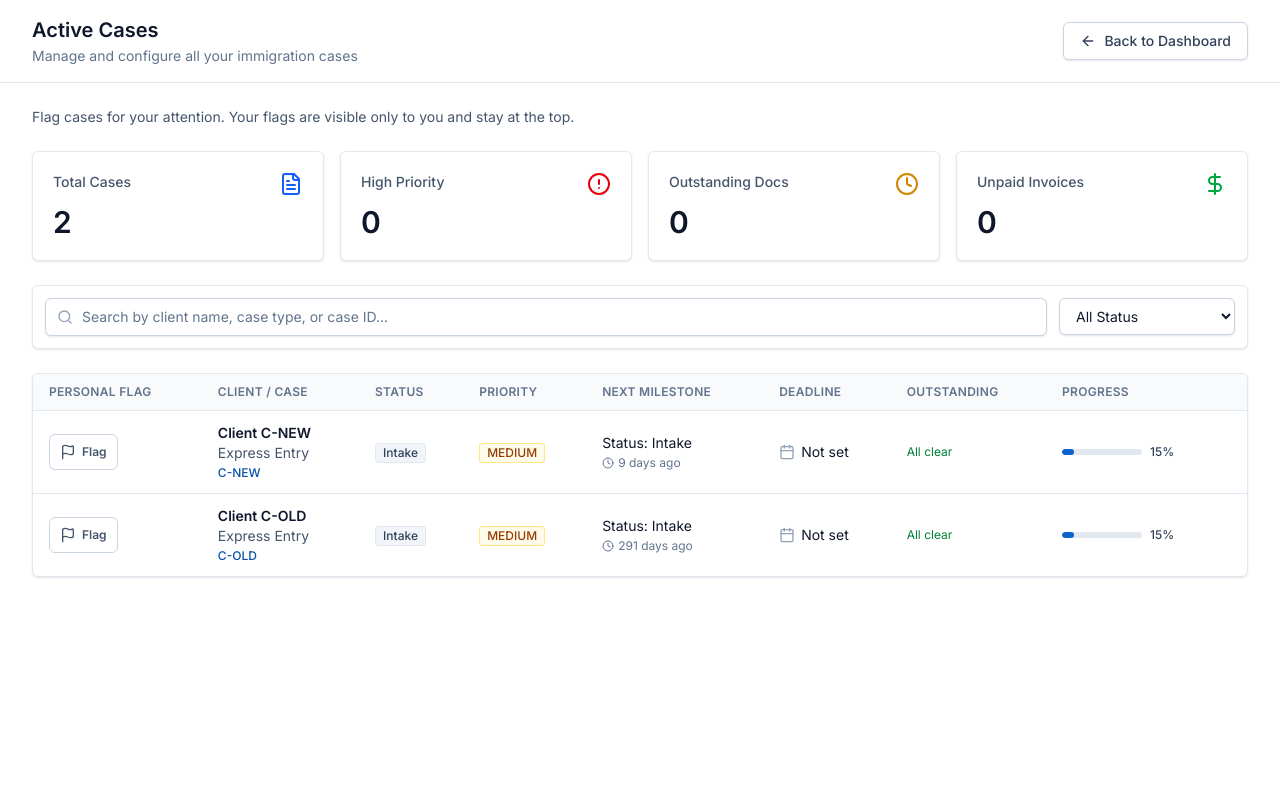
Test: Personal case flags › CT-FLAG-03: a failed save preserves the flag, order, and selected filters
The image size is (1280, 800).
Check: the button with aria-label "Flag case C-OLD" is shown, box [49,517,118,553]
Step 1. Type "c-" into the field named "Search cases" → (546, 317), box [45,298,1047,336]
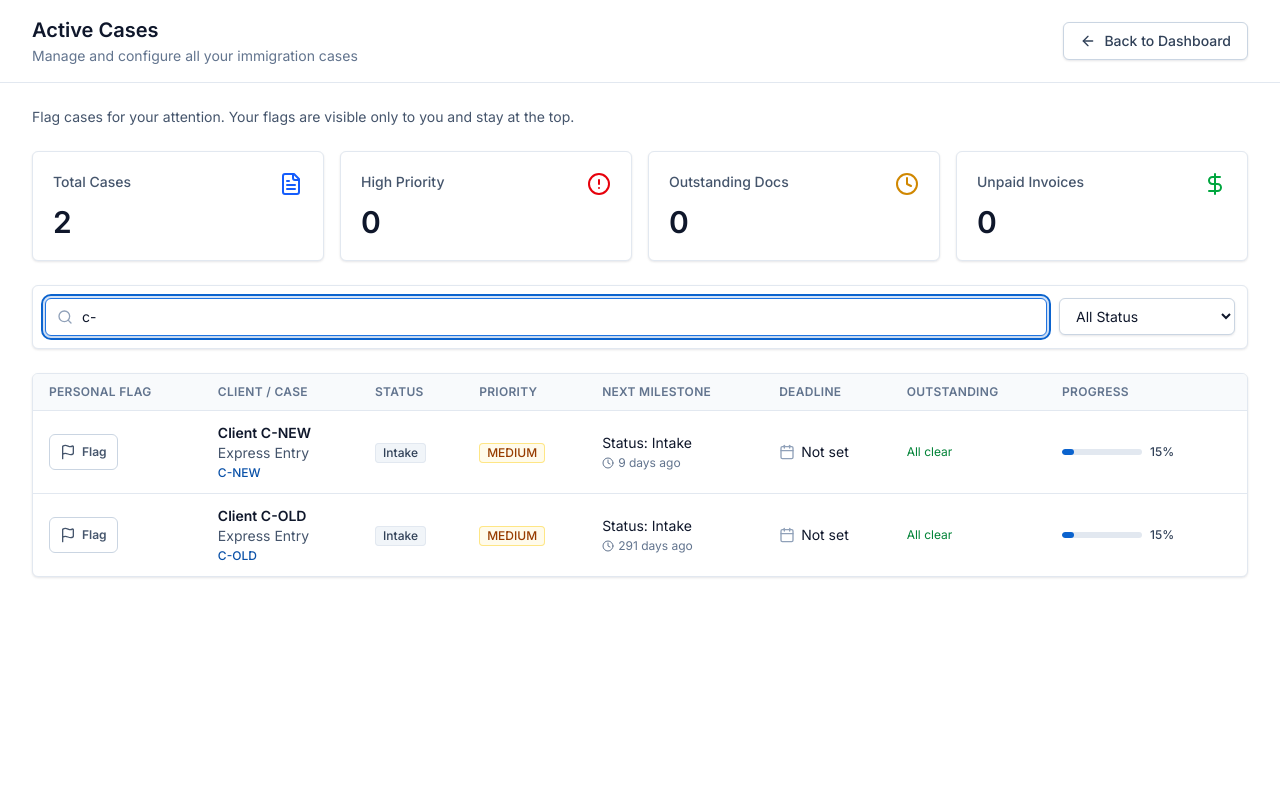
Step 2. Select "Intake" in the dropdown named "Filter by status" → (1147, 316), box [1059,298,1235,335]
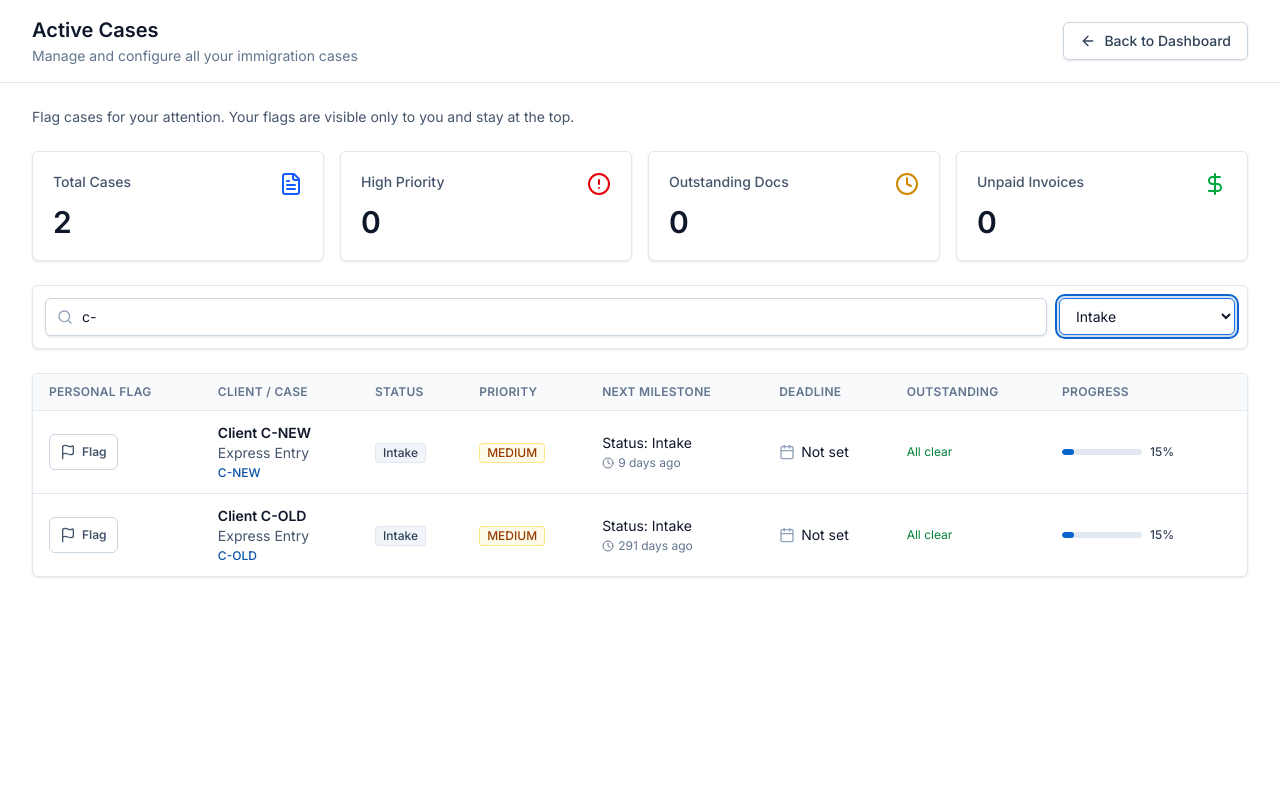
Step 3. Click the button with aria-label "Flag case C-OLD" → (83, 535), box [49,517,118,553]
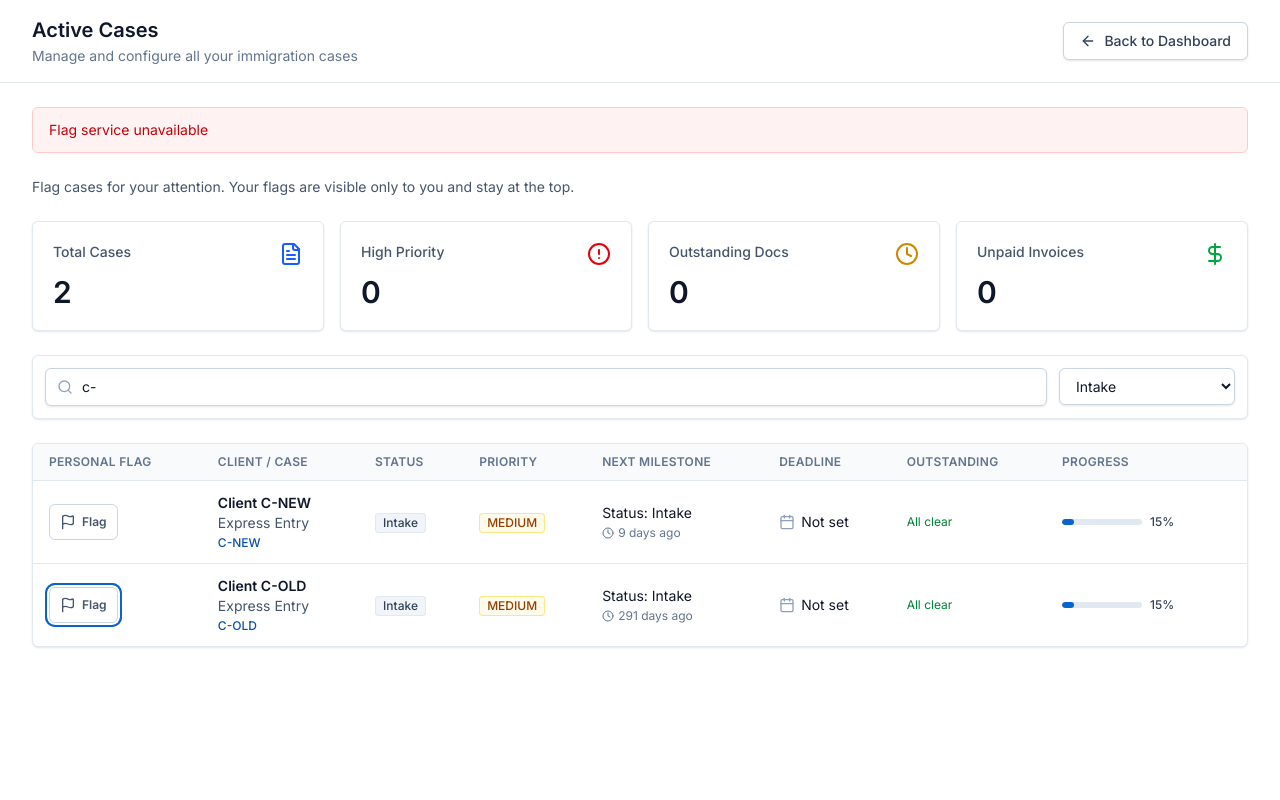
Check: the message shows "Flag", box [49,121,208,138]
